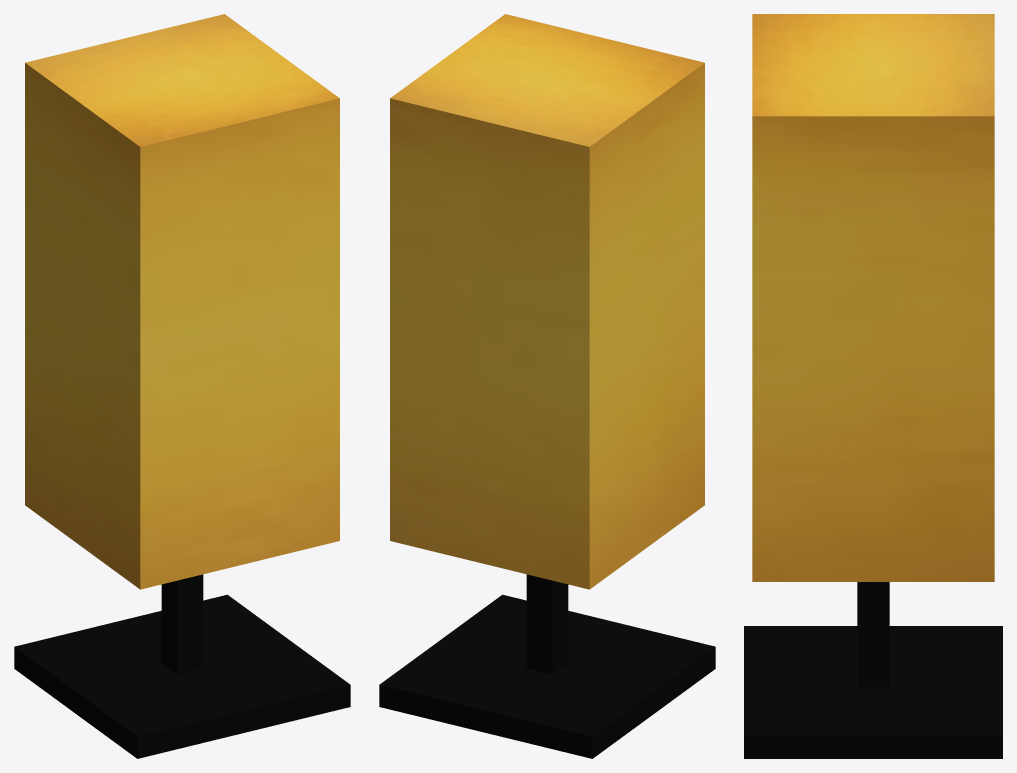
Rendered from lamp.fbx.
3 renders of one model, left to right at view 1: azimuth 30°, elevation 25°; view 2: azimuth 150°, elevation 25°; view 3: azimuth 270°, elevation 25°, orthographic. The views are drawn at different scales.
Parts seen in each view (by area): view 1: Lamp, Lamp Floor, Lamp Mid; view 2: Lamp, Lamp Floor, Lamp Mid; view 3: Lamp, Lamp Floor, Lamp Mid.
Part boxes in pixels (x1,y1,x2,y2): Lamp: (25, 14, 339, 589); Lamp Floor: (14, 594, 350, 758); Lamp Mid: (161, 574, 203, 674); Lamp: (390, 14, 704, 589); Lamp Floor: (379, 594, 715, 758); Lamp Mid: (526, 574, 568, 674); Lamp: (752, 14, 994, 581); Lamp Floor: (744, 626, 1002, 758); Lamp Mid: (857, 582, 889, 687).
Bounding box in the file's own units: 24.05 × 65.53 × 24.05.
